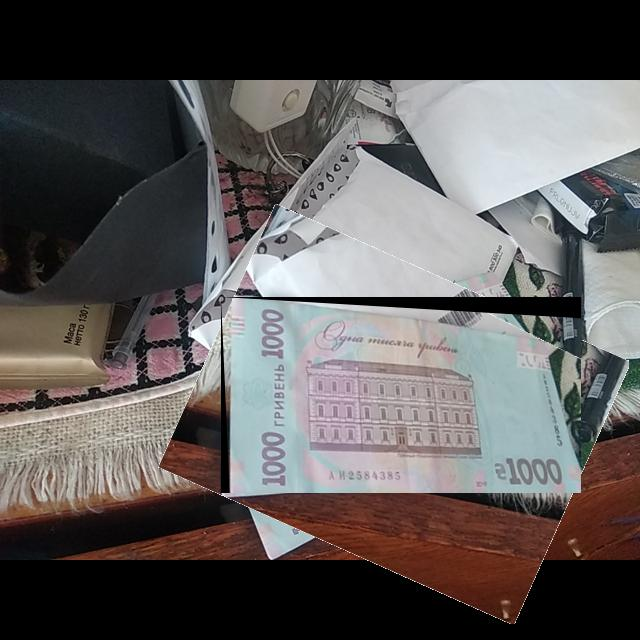1000uah: (229, 298, 582, 494)
